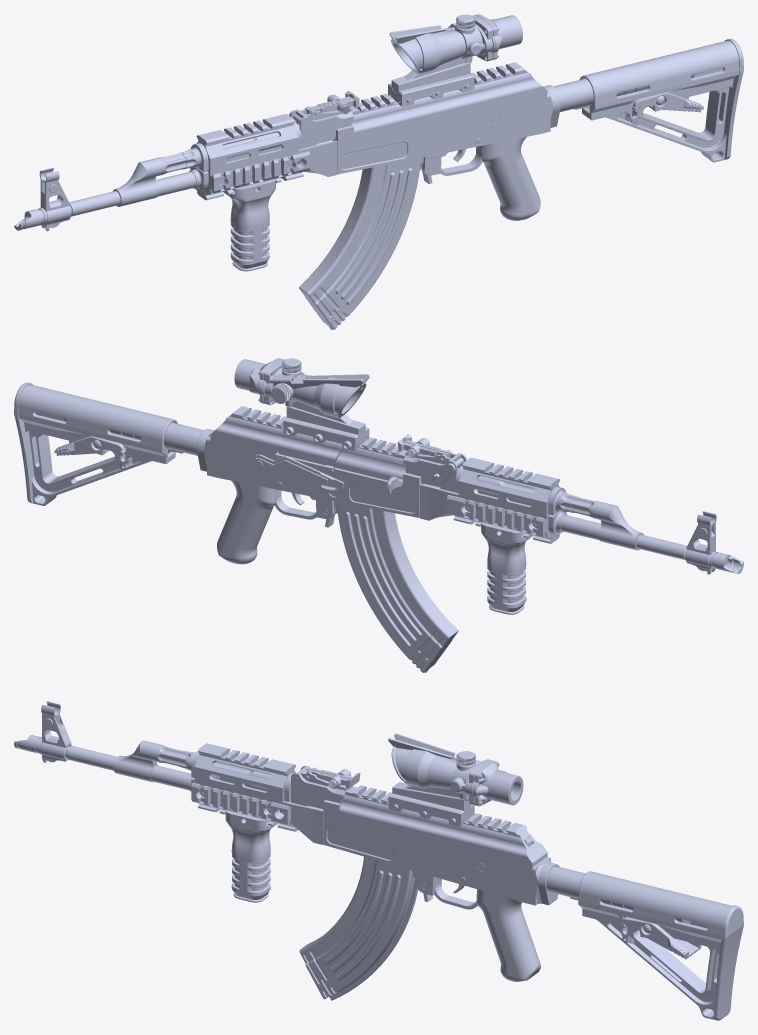
File: AKM_Assembly.glb
3 views of the same model, one above another, from view 1: azimuth 30°, elevation 25°; view 2: azimuth 150°, elevation 25°; view 3: azimuth 330°, elevation 25° (orthographic).
Parts seen in each view (by area): view 1: Magpul MOE Carbine-1, AK-47 Standard 30 Round-1, AK-47 Receiver-1, AKM Standard Railed Dust Cover-1, Trijicon ACOG TA31 4X32 Body-1, AK-47 Standard Barrel-1, AK Series Midwest Quad Rail Lower Handguard-2, AK Series Midwest Quad Rail Upper Handguard-1, Picatinny MFT Short Vertical Grip-1, AK-47 Standard Pistol Grip-1, AK-47 Rear Sight Block Assembly-1/AK-47 Rear Sight Block-1, AK-47 Standard Front Sight-1 (+5 smaller); view 2: Magpul MOE Carbine-1, AK-47 Standard 30 Round-1, AK-47 Receiver-1, AK-47 Standard Barrel-1, Trijicon ACOG TA31 4X32 Body-1, AKM Standard Railed Dust Cover-1, AK Series Midwest Quad Rail Lower Handguard-2, AK Series Midwest Quad Rail Upper Handguard-1, Picatinny MFT Short Vertical Grip-1, AK-47 Standard Pistol Grip-1, AK-47 Fire Selector-1, AK-47 Bolt Carrier-1 (+8 smaller); view 3: Magpul MOE Carbine-1, AK-47 Standard 30 Round-1, AK-47 Receiver-1, AKM Standard Railed Dust Cover-1, Trijicon ACOG TA31 4X32 Body-1, AK-47 Standard Barrel-1, AK Series Midwest Quad Rail Lower Handguard-2, AK-47 Standard Pistol Grip-1, AK Series Midwest Quad Rail Upper Handguard-1, Picatinny MFT Short Vertical Grip-1, Trijicon ACOG TA31 4X32 Eyepiece-1, AK-47 Rear Sight Block Assembly-1/AK-47 Rear Sight Block-1 (+5 smaller).
Part boxes in pixels (x1,y1,x2,y2): Magpul MOE Carbine-1: (579,38,743,162); AK-47 Standard 30 Round-1: (299,157,423,329); AK-47 Receiver-1: (333,95,547,175); AKM Standard Railed Dust Cover-1: (350,62,547,133); Trijicon ACOG TA31 4X32 Body-1: (389,15,495,93); AK-47 Standard Barrel-1: (28,124,332,217); AK Series Midwest Quad Rail Lower Handguard-2: (197,140,337,200); AK Series Midwest Quad Rail Upper Handguard-1: (196,113,301,172); Picatinny MFT Short Vertical Grip-1: (228,178,275,271); AK-47 Standard Pistol Grip-1: (476,137,540,220); AK-47 Rear Sight Block Assembly-1/AK-47 Rear Sight Block-1: (290,106,353,160); AK-47 Standard Front Sight-1: (39,167,71,231); Magpul MOE Carbine-1: (14,382,177,505); AK-47 Standard 30 Round-1: (334,501,458,672); AK-47 Receiver-1: (210,439,424,519); AK-47 Standard Barrel-1: (424,468,728,565); Trijicon ACOG TA31 4X32 Body-1: (261,359,369,436); AKM Standard Railed Dust Cover-1: (210,406,406,463); AK Series Midwest Quad Rail Lower Handguard-2: (419,484,559,543); AK Series Midwest Quad Rail Upper Handguard-1: (455,457,559,516); Picatinny MFT Short Vertical Grip-1: (481,522,528,614); AK-47 Standard Pistol Grip-1: (217,480,281,564); AK-47 Fire Selector-1: (252,452,344,490); AK-47 Bolt Carrier-1: (336,449,405,494); Magpul MOE Carbine-1: (578,871,743,1020); AK-47 Standard 30 Round-1: (299,856,418,1000); AK-47 Receiver-1: (323,800,547,909); AKM Standard Railed Dust Cover-1: (339,785,547,867); Trijicon ACOG TA31 4X32 Body-1: (388,733,492,812); AK-47 Standard Barrel-1: (65,740,323,813); AK Series Midwest Quad Rail Lower Handguard-2: (191,775,323,844); AK-47 Standard Pistol Grip-1: (476,889,540,981); AK Series Midwest Quad Rail Upper Handguard-1: (194,743,295,801); Picatinny MFT Short Vertical Grip-1: (225,810,273,902); Trijicon ACOG TA31 4X32 Eyepiece-1: (472,760,523,806); AK-47 Rear Sight Block Assembly-1/AK-47 Rear Sight Block-1: (291,765,352,808).
Size of the model in its own units: 0.1492 by 0.0557 by 0.0118.
